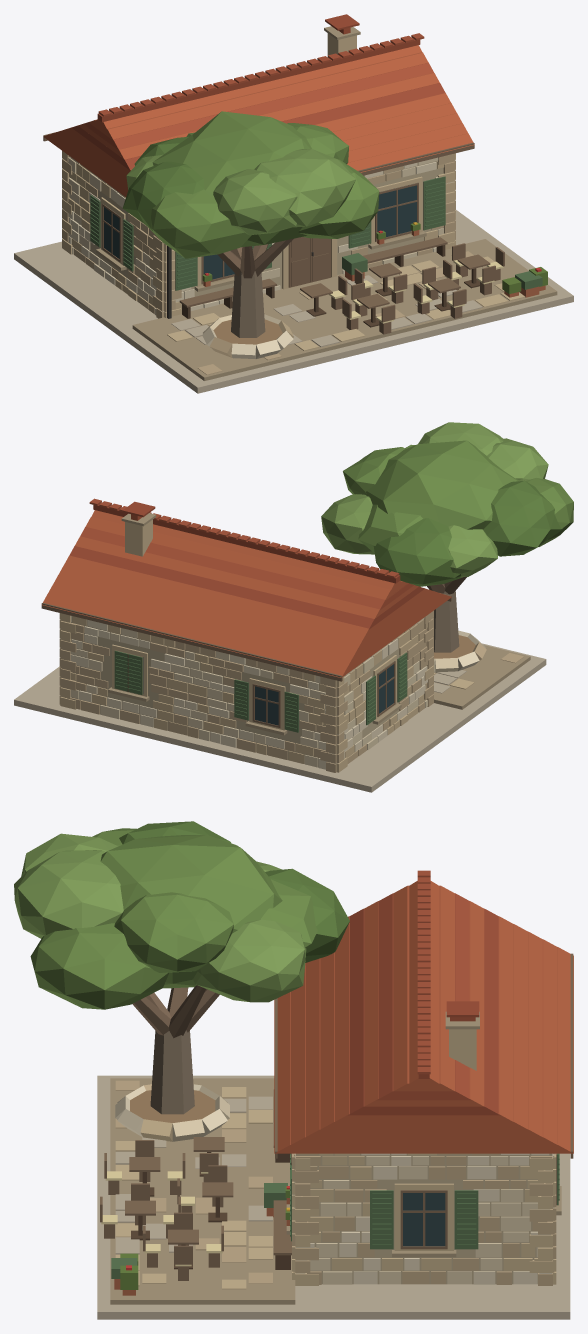
File: merkez-kahvehanesi.glb
3 views of the same model, one above another, from view 1: azimuth 30°, elevation 25°; view 2: azimuth 150°, elevation 25°; view 3: azimuth 270°, elevation 25° (orthographic). The views are drawn at different scales.
Parts seen in each view (by area): view 1: kiremit1, yaprak1, zemin, tas_koyu, ahsap, yaprak3, tas2, kiremit2, tas3, kiremit4, yesil_kepenk, tas4 (+11 smaller); view 2: kiremit1, yaprak1, zemin, tas3, tas2, yaprak2, yaprak3, kiremit4, tas4, kiremit2, tas1, harc (+5 smaller); view 3: kiremit1, yaprak1, zemin, tas_koyu, yaprak3, tas2, tas3, ahsap, kiremit2, kiremit4, tas1, tas4 (+11 smaller).
Part boxes in pixels (left/top/right/bottom): kiremit1: left=43, top=45, right=474, bottom=196; yaprak1: left=149, top=111, right=379, bottom=258; zemin: left=14, top=210, right=573, bottom=393; tas_koyu: left=96, top=26, right=557, bottom=380; ahsap: left=43, top=132, right=504, bottom=334; yaprak3: left=126, top=149, right=356, bottom=235; tas2: left=62, top=33, right=525, bottom=351; kiremit2: left=83, top=27, right=433, bottom=150; tas3: left=62, top=153, right=473, bottom=374; kiremit4: left=72, top=14, right=445, bottom=170; yesil_kepenk: left=90, top=176, right=445, bottom=290; tas4: left=63, top=156, right=453, bottom=358; kiremit1: left=42, top=510, right=451, bottom=677; yaprak1: left=343, top=440, right=573, bottom=552; zemin: left=14, top=643, right=546, bottom=792; tas3: left=59, top=610, right=524, bottom=772; tas2: left=59, top=520, right=474, bottom=772; yaprak2: left=373, top=480, right=562, bottom=586; yaprak3: left=321, top=422, right=548, bottom=577; kiremit4: left=69, top=501, right=424, bottom=629; tas4: left=63, top=618, right=485, bottom=769; kiremit2: left=80, top=498, right=413, bottom=610; tas1: left=63, top=615, right=458, bottom=767; harc: left=71, top=616, right=425, bottom=766; kiremit1: left=274, top=881, right=573, bottom=1153; yaprak1: left=30, top=828, right=317, bottom=1009; zemin: left=97, top=1075, right=570, bottom=1319; tas_koyu: left=110, top=1011, right=561, bottom=1304; yaprak3: left=14, top=833, right=306, bottom=1002; tas2: left=115, top=1029, right=556, bottom=1289; tas3: left=115, top=1080, right=556, bottom=1285; ahsap: left=100, top=953, right=573, bottom=1280; kiremit2: left=377, top=870, right=475, bottom=1100; kiremit4: left=348, top=908, right=499, bottom=1115; tas1: left=172, top=1085, right=554, bottom=1284; tas4: left=115, top=1084, right=555, bottom=1284.
Bounding box in the file's own units: 14.2 × 7.41 × 13.03.
